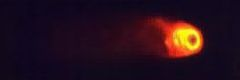keyhole: (186, 33, 198, 47)
